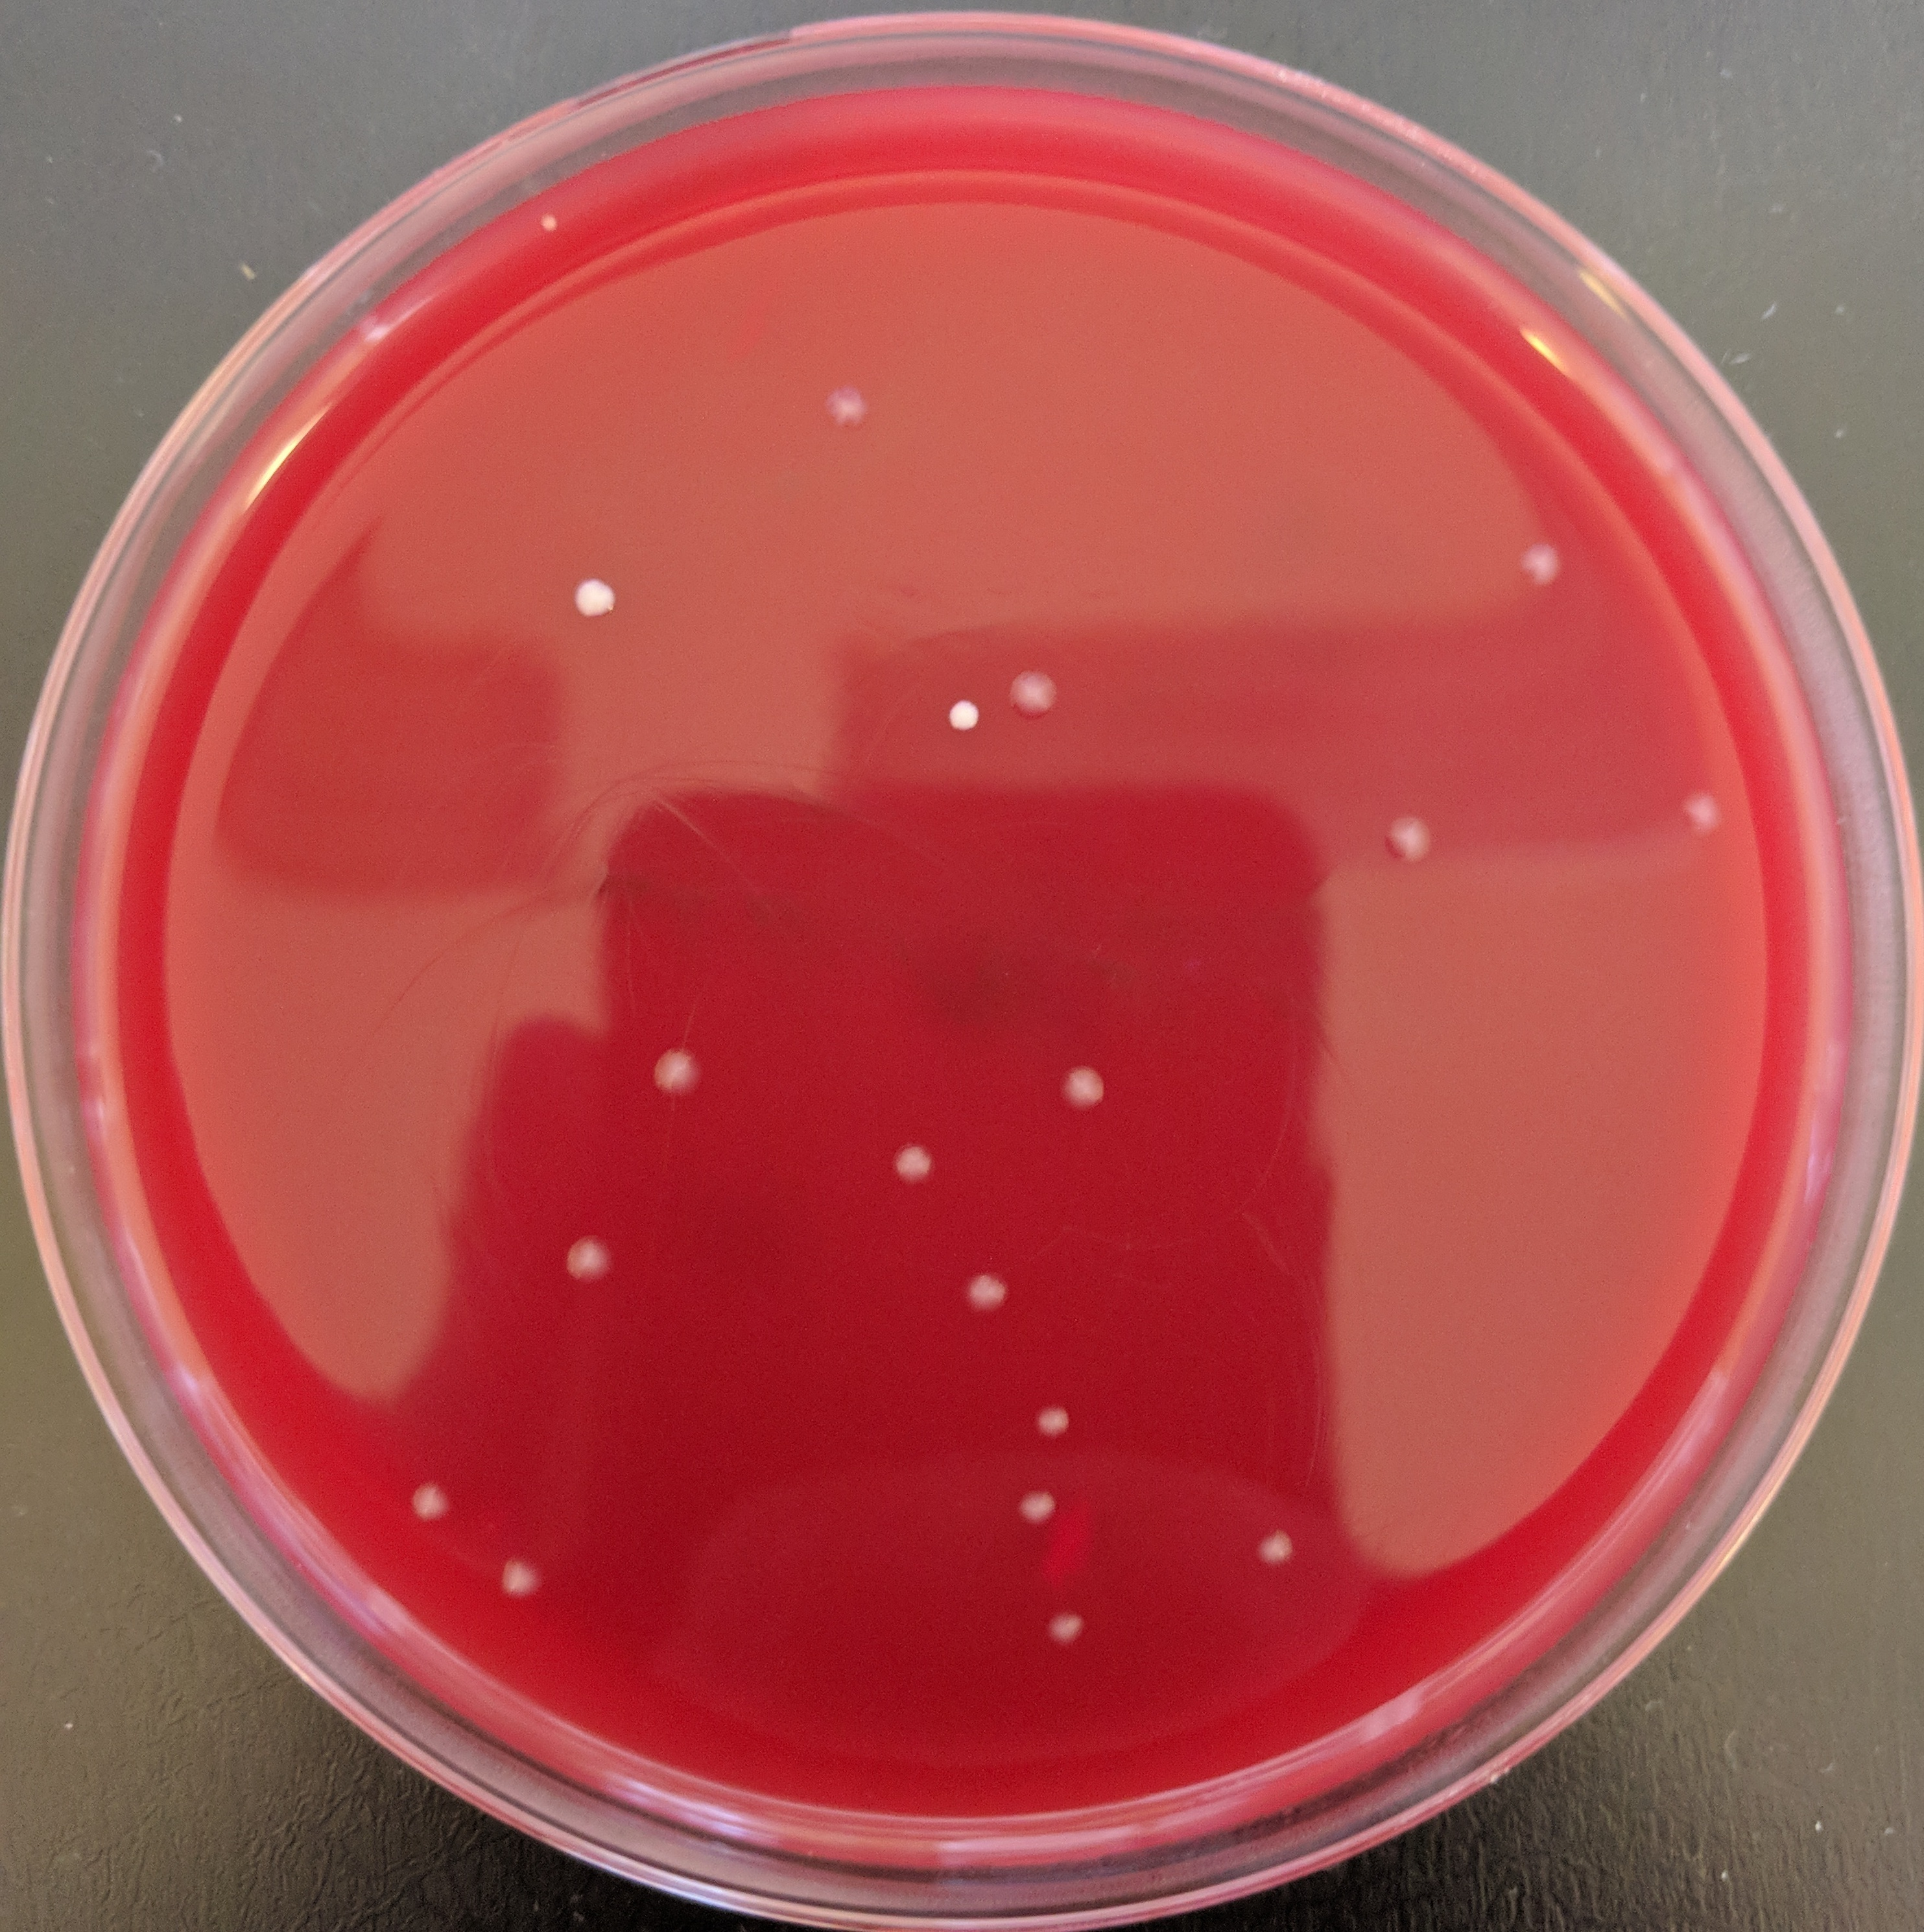sp18: (1637, 747, 1762, 873), (566, 538, 673, 672), (893, 658, 1006, 744), (1001, 631, 1091, 732), (629, 1024, 733, 1107), (543, 1218, 631, 1299), (1505, 525, 1579, 617), (1364, 802, 1438, 881), (497, 1537, 571, 1615), (791, 358, 877, 423), (953, 1260, 1018, 1347), (872, 1126, 958, 1185), (1055, 1054, 1129, 1119), (1025, 1597, 1121, 1646), (1253, 1507, 1314, 1581), (1004, 1468, 1061, 1539), (1017, 1396, 1105, 1440), (402, 1468, 455, 1521)
